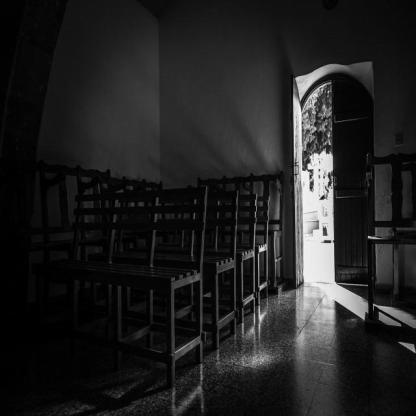door: (287, 59, 375, 299)
